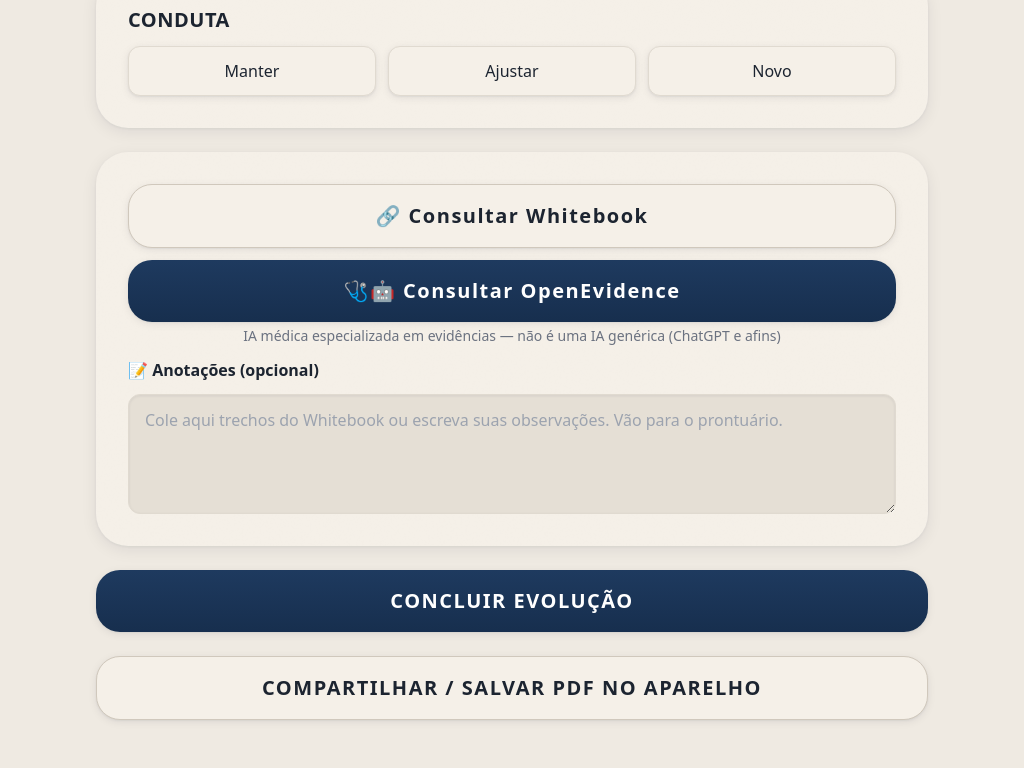
Test: tela de Evolução › concluir exige decidir diagnóstico e conduta
The image size is (1024, 768).
(page scrolled)
Click the button "CONCLUIR EVOLUÇÃO": (512, 601) [96,570,928,632]
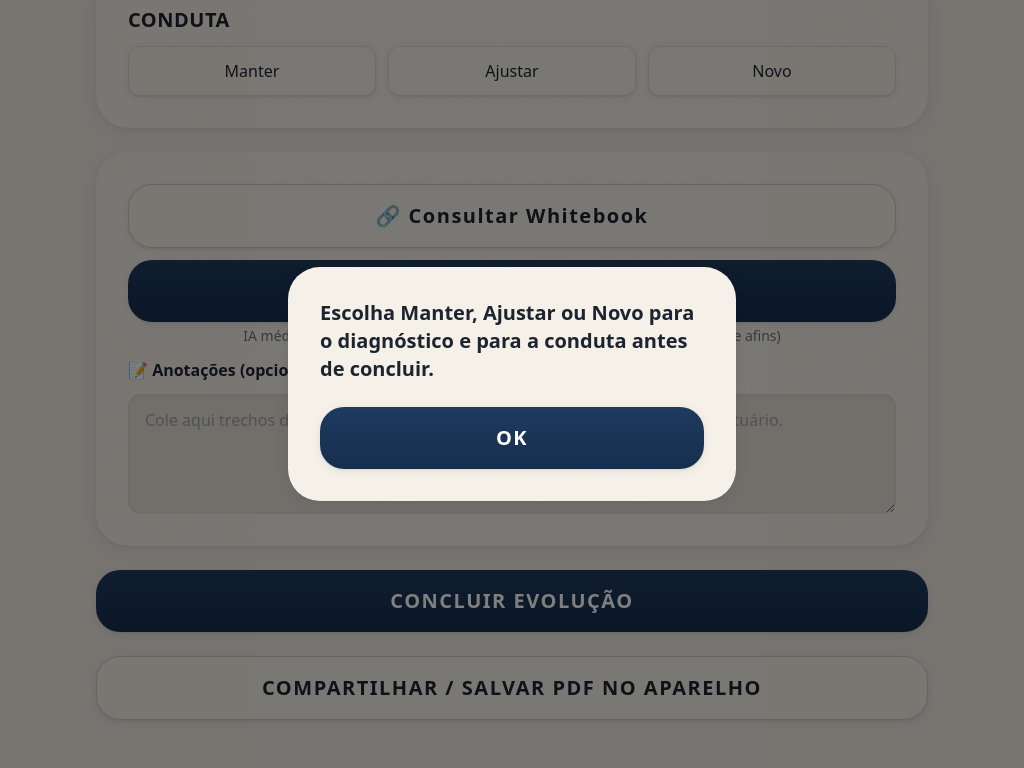
Now the text "Escolha Manter, Ajustar ou Novo" is shown, box [320,299,694,382]
